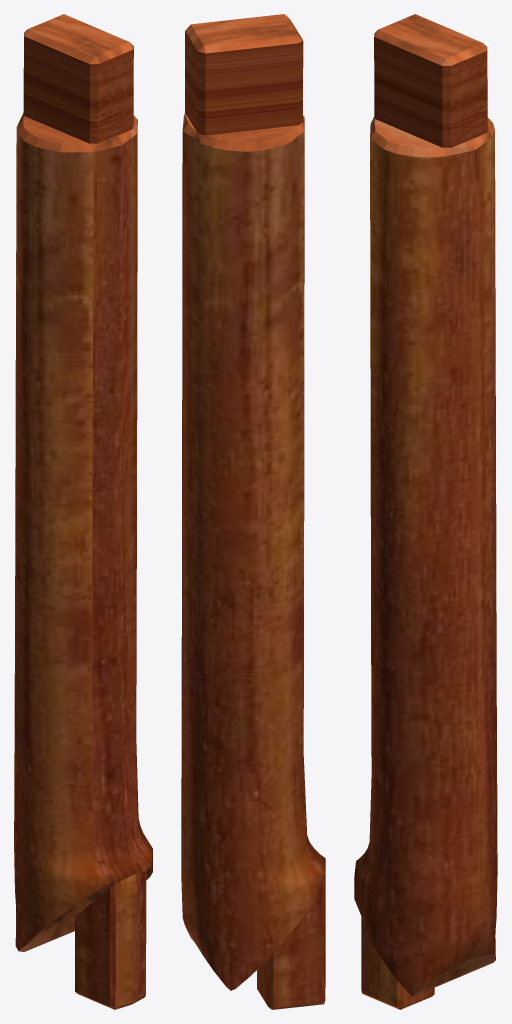
The model's file is ytsy_J_shugan_018.FBX.
The picture shows the model from 3 angles, left to right: view 1: azimuth 90°, elevation 25°; view 2: azimuth 150°, elevation 25°; view 3: azimuth 270°, elevation 25°; orthographic projection. The views are drawn at different scales.
Parts seen in each view (by area): view 1: ytsy_J_shugan_018; view 2: ytsy_J_shugan_018; view 3: ytsy_J_shugan_018.
Boxes of the visible parts, <box> form: ytsy_J_shugan_018: <box>14,14,152,1009</box>; ytsy_J_shugan_018: <box>181,14,325,1009</box>; ytsy_J_shugan_018: <box>354,14,497,1009</box>.
Bounding box in the file's own units: 2.2 × 16.48 × 2.19.
